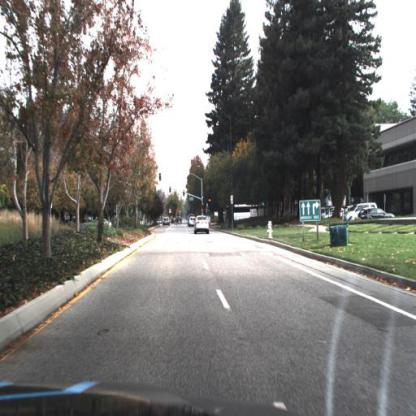car: (344, 201, 379, 222), (368, 194, 393, 217), (195, 215, 212, 236)
